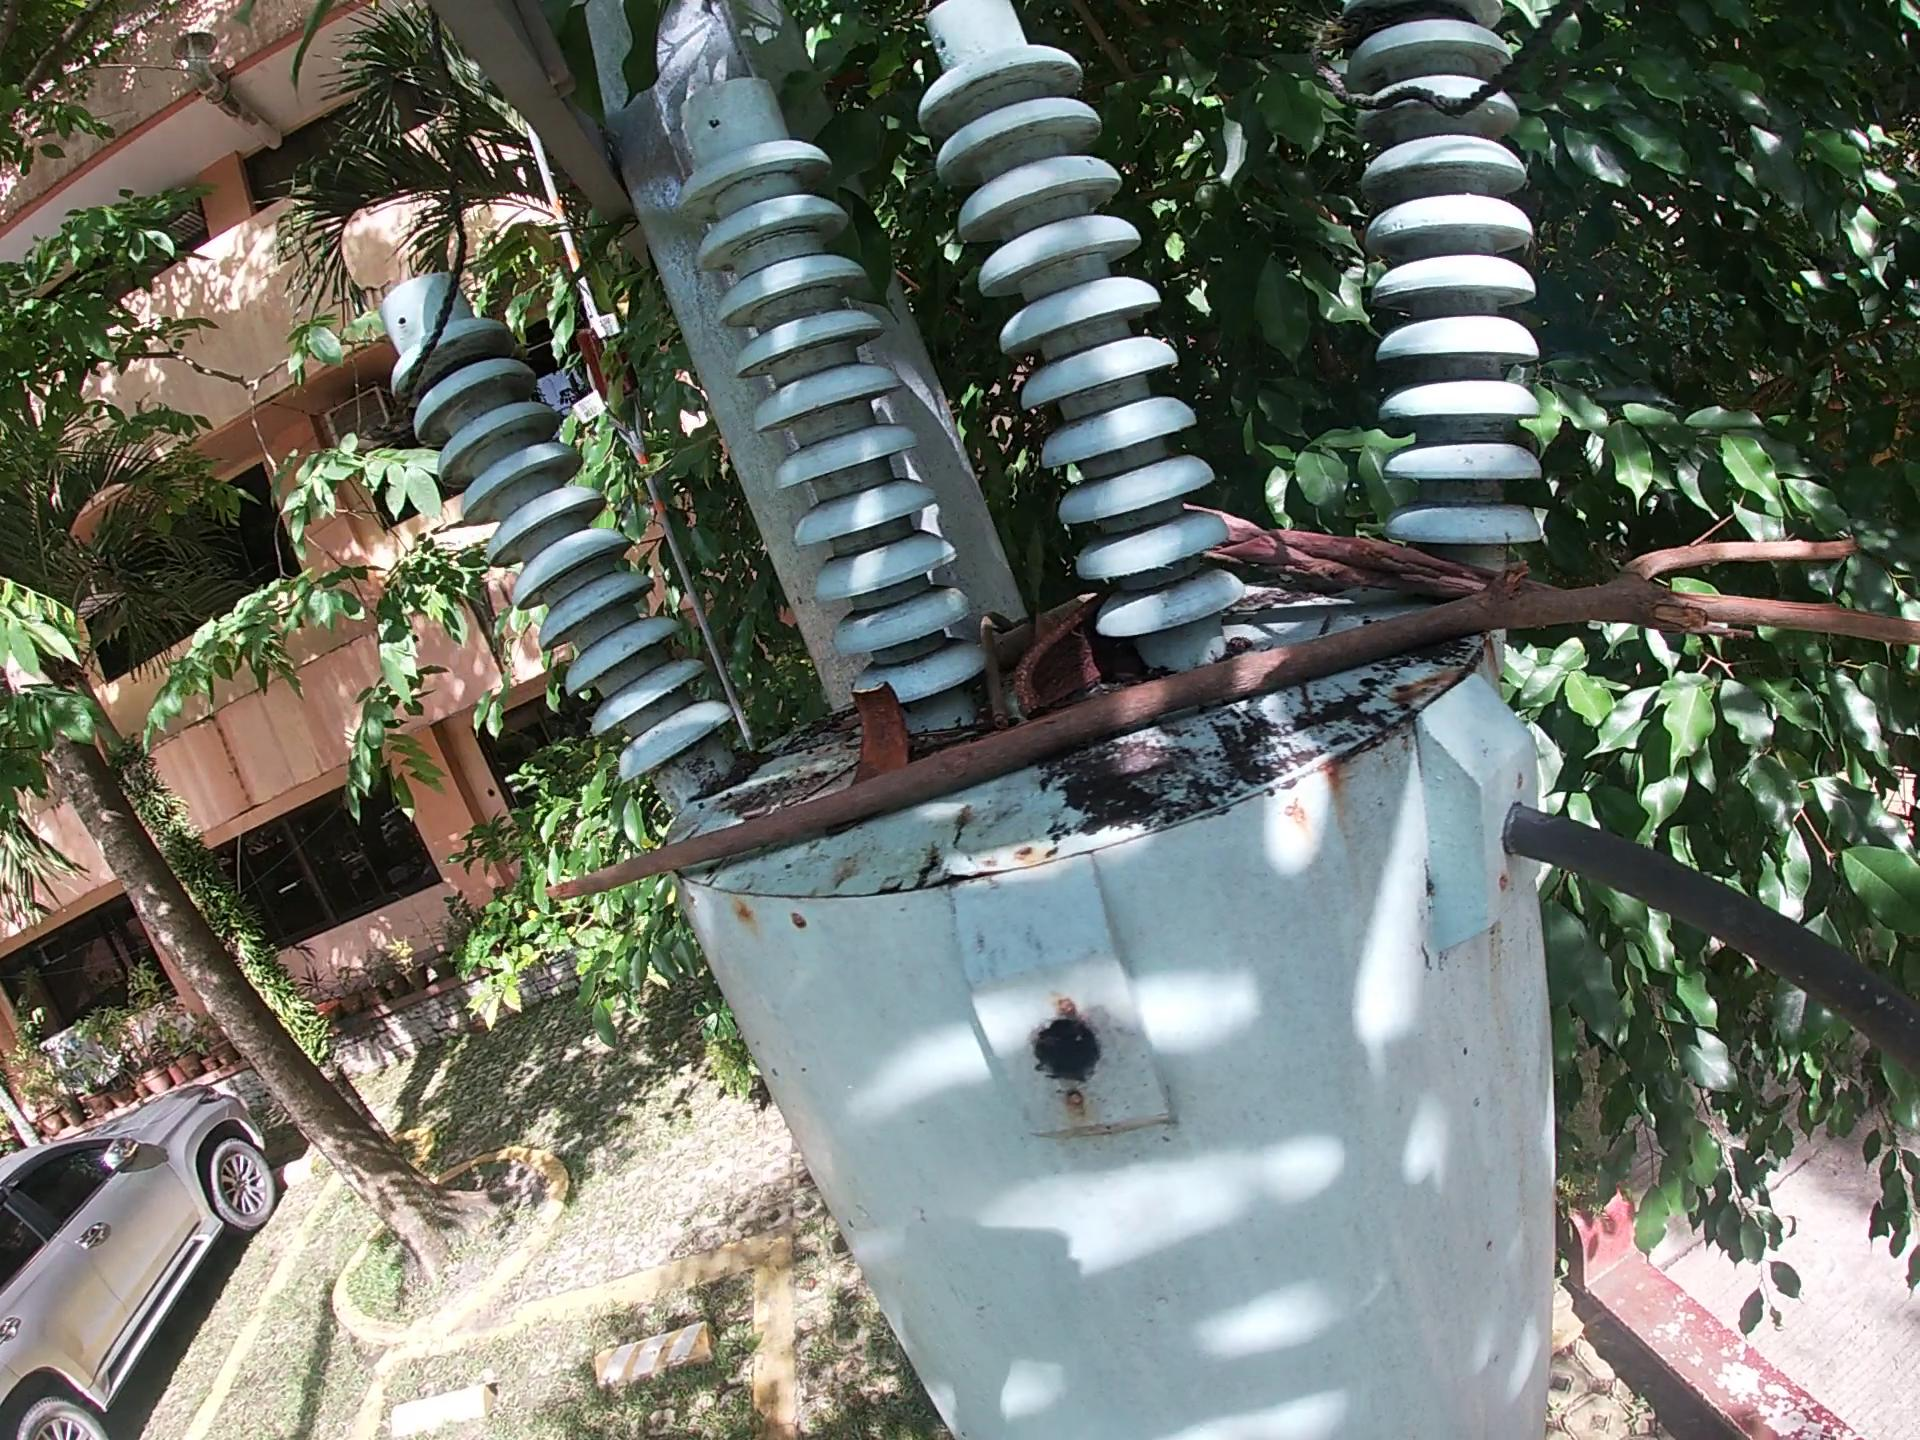leaf: (1027, 610, 1063, 643), (835, 712, 856, 746)
mahogany fruit: (1008, 614, 1122, 718), (835, 679, 919, 790)
tree branch: (531, 511, 1920, 920), (1200, 498, 1538, 610), (977, 588, 1105, 666), (972, 601, 1013, 735), (791, 762, 848, 803), (1297, 672, 1329, 735), (912, 714, 977, 743)
